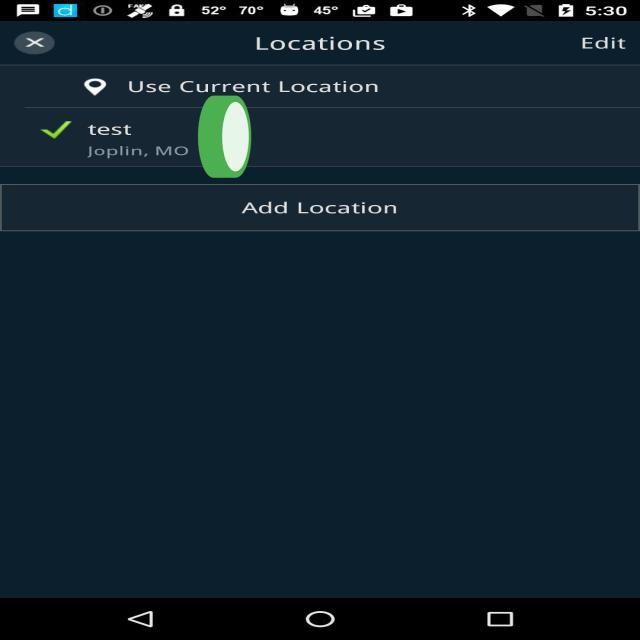social proof: (196, 64, 253, 216)
